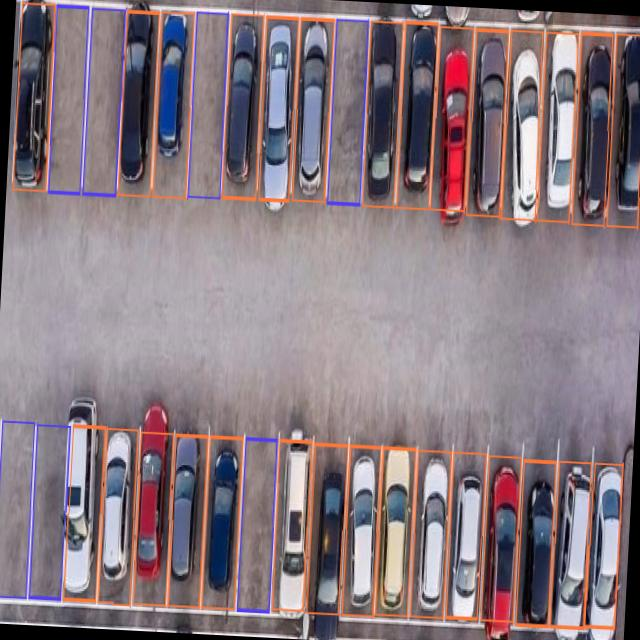car: (393, 18, 442, 210), (499, 26, 548, 216), (429, 24, 478, 212), (253, 6, 298, 209), (537, 26, 584, 220), (548, 446, 595, 638), (572, 32, 618, 227), (10, 0, 57, 190), (513, 444, 560, 632), (478, 442, 525, 628), (218, 13, 266, 195), (147, 10, 195, 192), (358, 19, 404, 203), (269, 435, 316, 614), (162, 431, 210, 606), (113, 8, 159, 190), (290, 18, 336, 200), (444, 442, 490, 624), (467, 26, 511, 214), (198, 435, 244, 610), (62, 414, 106, 596), (91, 428, 137, 602), (372, 441, 418, 614), (306, 438, 351, 614), (408, 442, 453, 616), (342, 439, 384, 612), (605, 25, 640, 224), (133, 424, 173, 596), (584, 461, 622, 640)
free: (230, 433, 282, 612), (322, 17, 372, 201), (44, 2, 90, 200), (182, 12, 232, 194), (79, 6, 128, 190), (25, 406, 71, 596), (0, 420, 38, 601)
